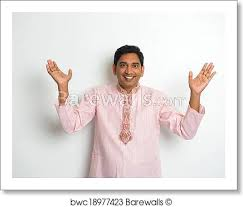Indian_Male: (114, 52, 141, 82)
